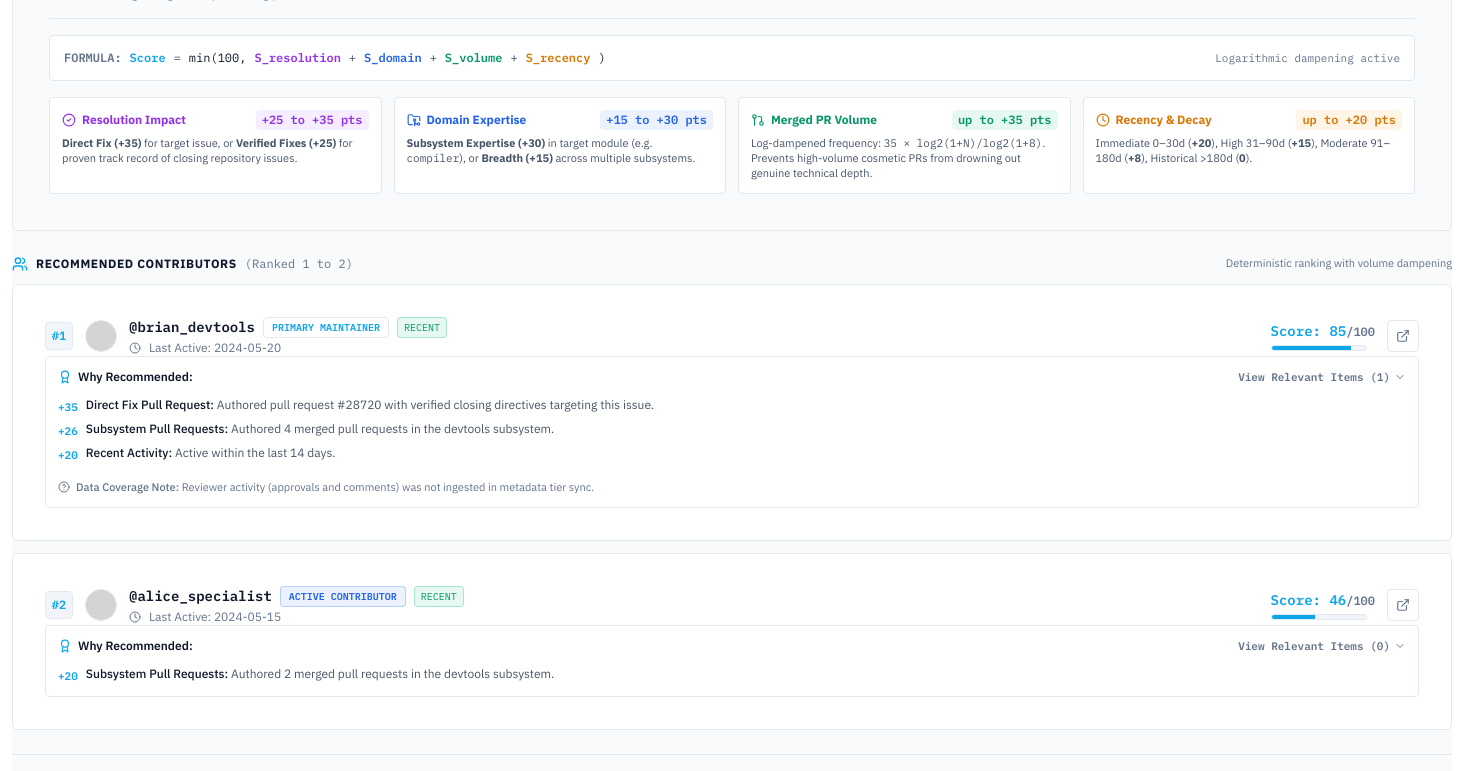
Phase 7: Contribution Finder Frontend Experience › allows expanding relevant authored work items for a contributor
The image size is (1464, 771).
(page scrolled)
Expected: the text "@brian_devtools" is shown, [129,317,255,337]
Click the button "View Relevant Items (1)" at (1322, 377), box [1238,369,1406,385]
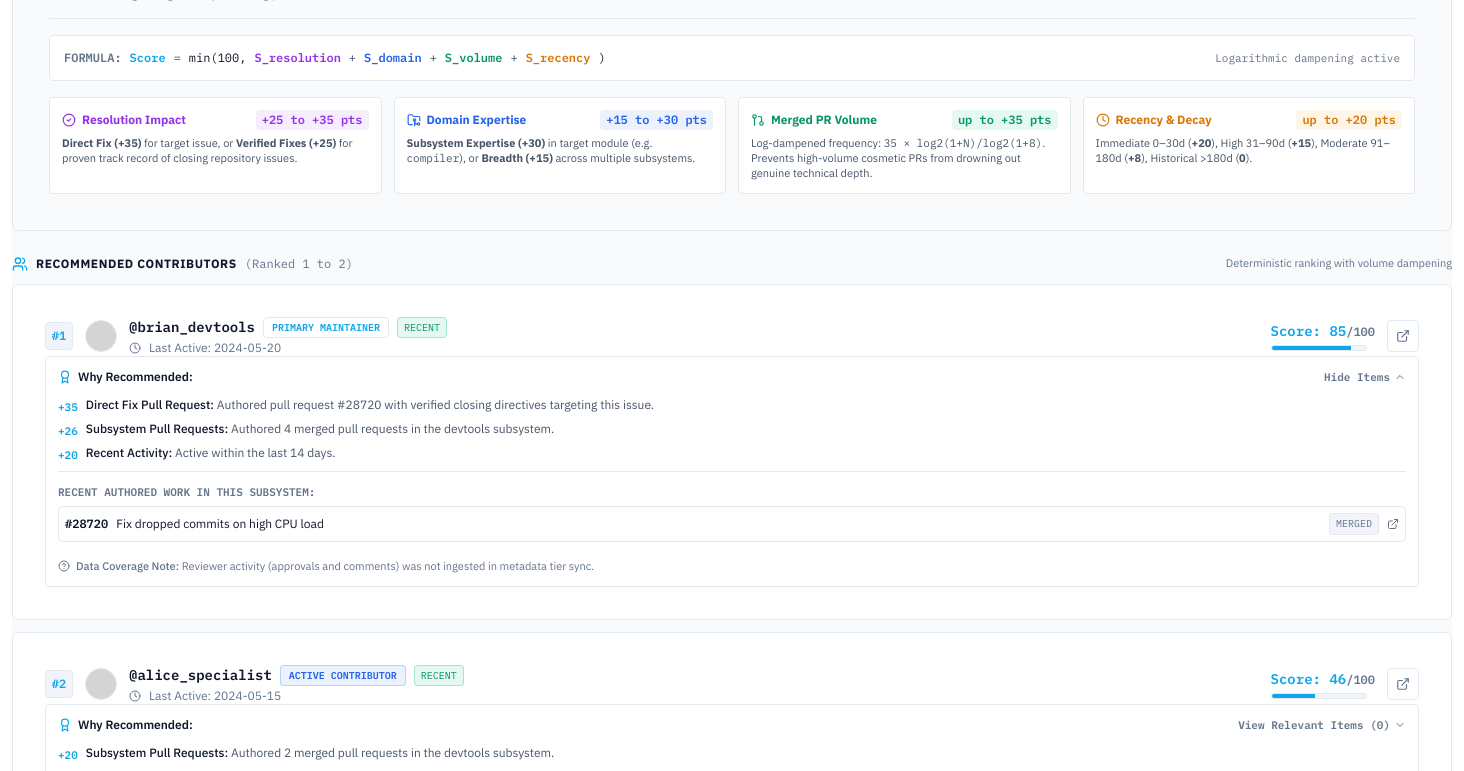
Now the text "Recent Authored Work in this Subsystem:" is shown, box [58,485,315,499]
Now the text "Fix dropped commits on high CPU load" is shown, box [116,516,324,532]
Now the text "MERGED" is shown, box [1329,513,1379,535]
